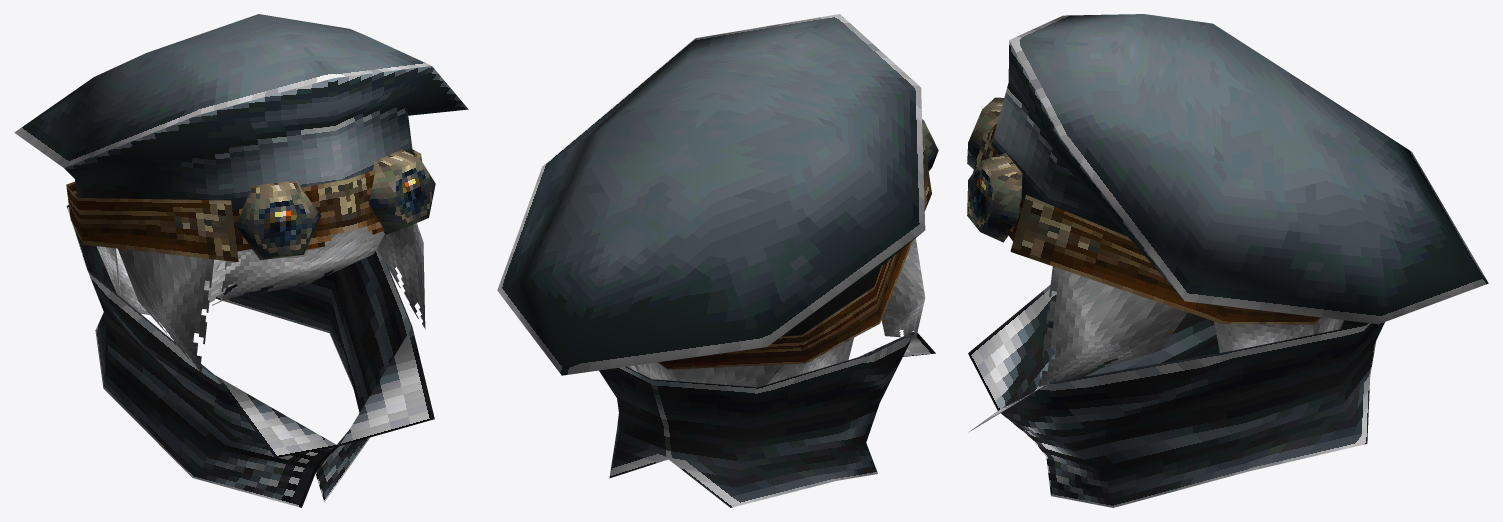
The model's file is f_helmet154.obj.
3 renders of one model, left to right at view 1: azimuth 30°, elevation 25°; view 2: azimuth 150°, elevation 25°; view 3: azimuth 270°, elevation 25°, orthographic. The views are drawn at different scales.
Visible parts, largest first — view 1: mesh01, mesh00; view 2: mesh01, mesh00; view 3: mesh01, mesh00.
Boxes of the visible parts, box(x1,y1,x2,y2) form: mesh01: box(14, 14, 468, 507); mesh00: box(96, 223, 425, 372); mesh01: box(497, 14, 938, 507); mesh00: box(627, 238, 925, 387); mesh01: box(967, 14, 1488, 507); mesh00: box(1038, 266, 1343, 386).
Size of the model in its own units: 27.24 by 28.81 by 30.18.
2 materials, 2 textured.
